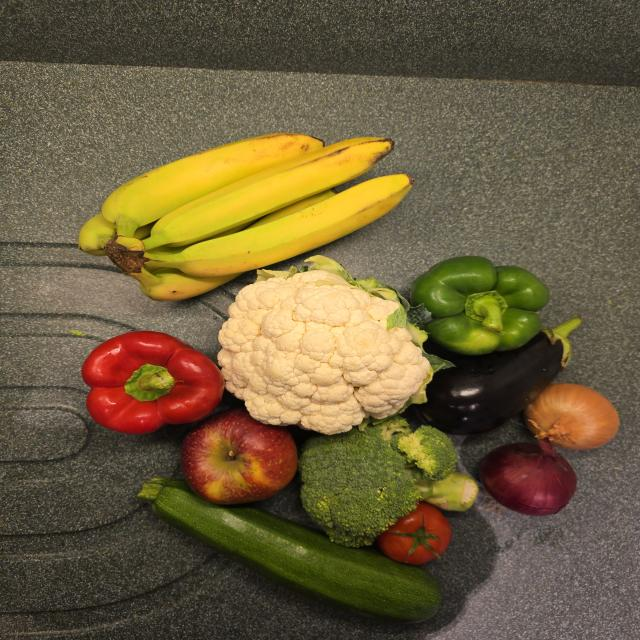Apple: (181, 408, 297, 504)
Banana: (79, 133, 412, 300)
Bell Pepper: (81, 331, 223, 434), (411, 256, 549, 355)
Broccoli: (300, 416, 479, 547)
Cauliflower: (218, 256, 432, 435)
Courgette: (138, 478, 441, 622)
Eggplant: (419, 318, 581, 435)
Onion: (479, 439, 577, 516), (525, 383, 619, 449)
Tomato: (376, 502, 451, 565)
